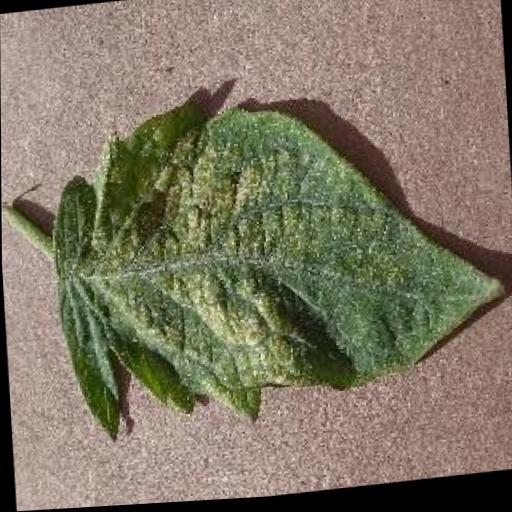Spider Mites: (43, 83, 509, 449)
